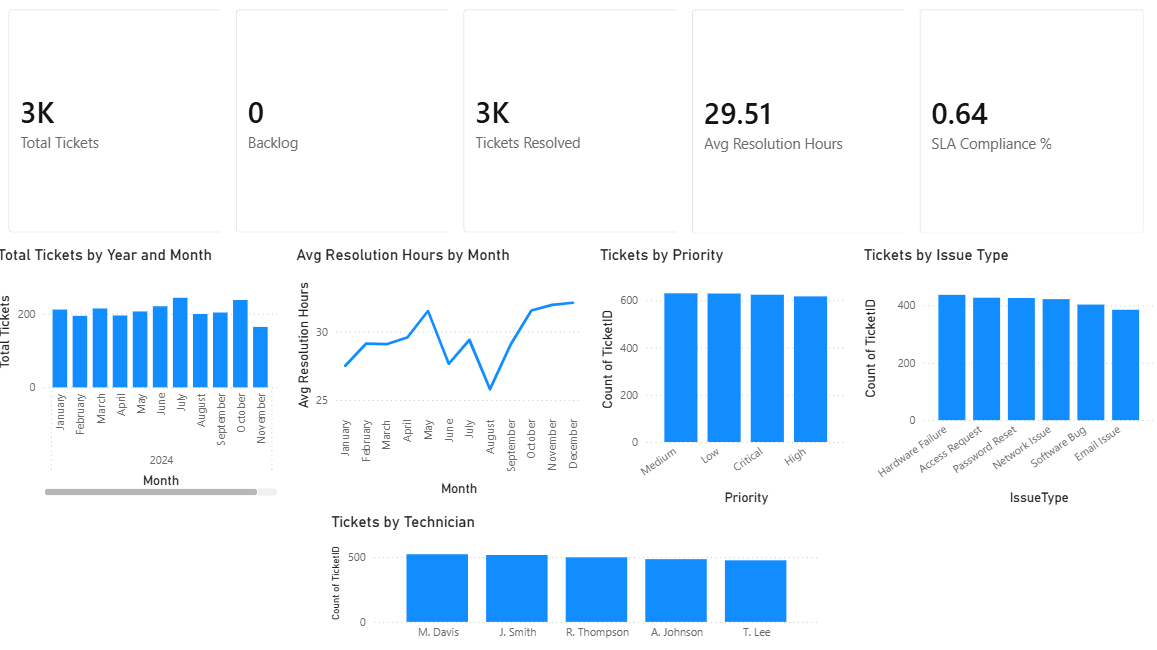

This screenshot's page, from the dashboard's own definition file:
{"tool":"powerbi","page":{"name":"Page 1","canvas":[1280,720],"ordinal":0},"visuals":[{"type":"cardVisual","fields":{"Data":["it_ticketing_dataset.Total Tickets"]},"box":[0,0,279.9,279.9],"z":0},{"type":"cardVisual","fields":{"Data":["it_ticketing_dataset.Backlog"]},"box":[250,0,279.9,279.9],"z":1000},{"type":"cardVisual","fields":{"Data":["Tickets.Tickets Resolved"]},"box":[500,0,279.9,279.9],"z":2000},{"type":"cardVisual","fields":{"Data":["Tickets.Avg Resolution Hours"]},"box":[749.9,0,280,280],"z":3000},{"type":"cardVisual","fields":{"Data":["Tickets.SLA Compliance %"]},"box":[1000,0,280,280],"z":4000},{"type":"columnChart","fields":{"Y":["Tickets.Total Tickets"],"Category":["Tickets.CreatedDate.Variation.Date Hierarchy.Year","Tickets.CreatedDate.Variation.Date Hierarchy.Month"]},"box":[0,275.7,317.1,280],"z":5000},{"type":"lineChart","fields":{"Y":["Tickets.Avg Resolution Hours"],"Category":["Tickets.CreatedDate.Variation.Date Hierarchy.Month"]},"box":[327.6,275.7,322.9,280],"z":6000},{"type":"columnChart","title":"Tickets by Priority","fields":{"Category":["Tickets.Priority"],"Y":["Tickets.TicketID"]},"box":[661,275.7,280,290],"z":7000},{"type":"clusteredColumnChart","title":"Tickets by Issue Type","fields":{"Category":["Tickets.IssueType"],"Y":["Tickets.TicketID"]},"box":[951.4,275.7,328.6,290],"z":8000},{"type":"columnChart","title":"Tickets by Technician","fields":{"Category":["Tickets.AssignedTechnician"],"Y":["Tickets.TicketID"]},"box":[366.4,570,547.1,150],"z":9000}]}

Visuals, with their boxes in screenshot pixels (x1, y1, x2, y2), scaled from the page's 1280x720 canvas onto the 1157x650 screenshot:
cardVisual - it_ticketing_dataset.Total Tickets: bbox=(0, 0, 253, 253)
cardVisual - it_ticketing_dataset.Backlog: bbox=(226, 0, 479, 253)
cardVisual - Tickets.Tickets Resolved: bbox=(452, 0, 705, 253)
cardVisual - Tickets.Avg Resolution Hours: bbox=(678, 0, 931, 253)
cardVisual - Tickets.SLA Compliance %: bbox=(904, 0, 1156, 253)
columnChart - Tickets.Total Tickets x Tickets.CreatedDate.Variation.Date Hierarchy.Year: bbox=(0, 249, 287, 502)
lineChart - Tickets.Avg Resolution Hours x Tickets.CreatedDate.Variation.Date Hierarchy.Month: bbox=(296, 249, 588, 502)
"Tickets by Priority" columnChart: bbox=(597, 249, 851, 511)
"Tickets by Issue Type" clusteredColumnChart: bbox=(860, 249, 1156, 511)
"Tickets by Technician" columnChart: bbox=(331, 515, 826, 649)
